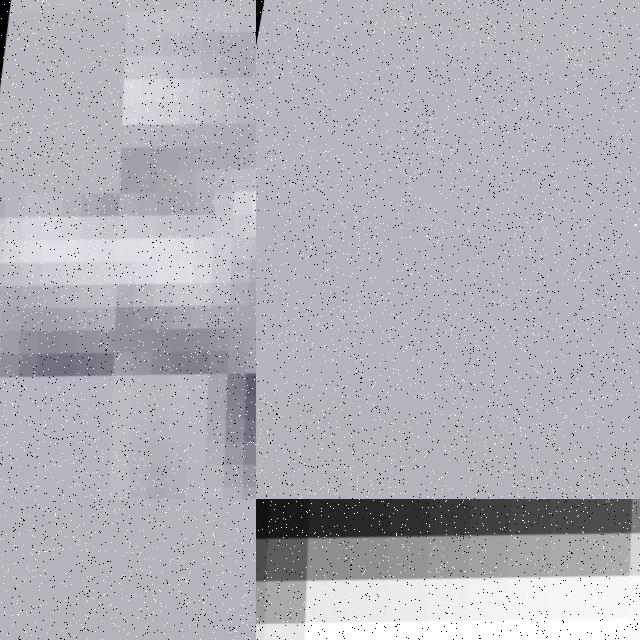drone: (0, 0, 256, 499), (256, 499, 640, 640)
